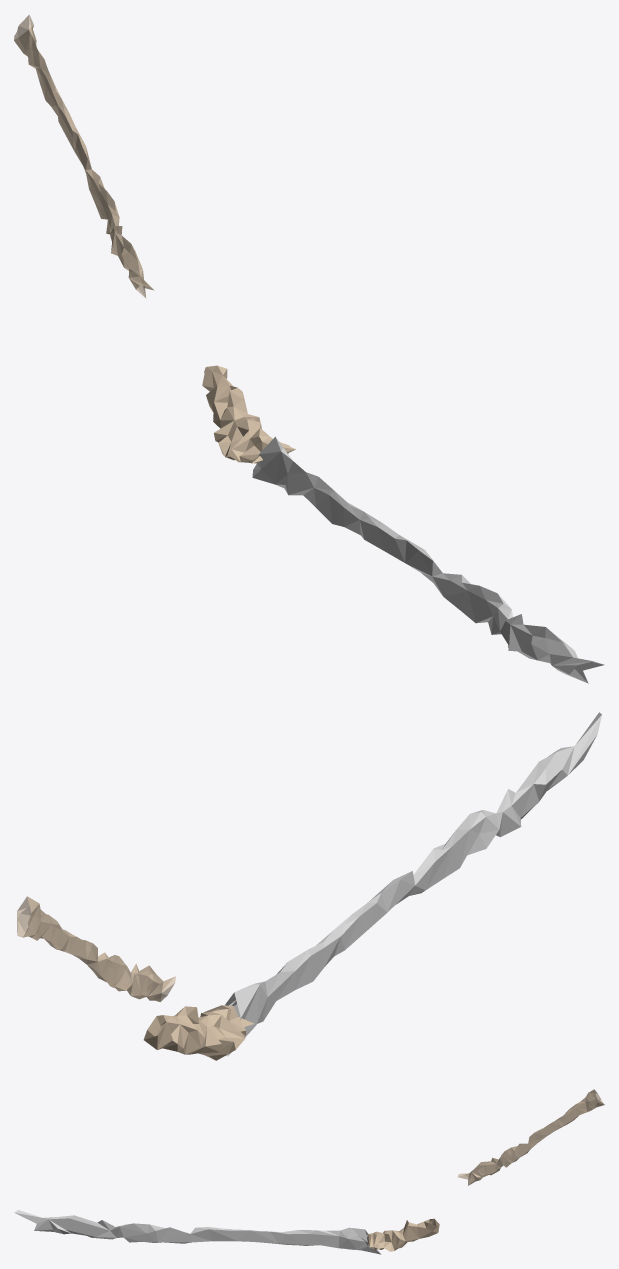
Rendered from Fixed Ventricles.fbx.
3 renders of one model, top to bottom at view 1: azimuth 30°, elevation 25°; view 2: azimuth 150°, elevation 25°; view 3: azimuth 270°, elevation 25°, orthographic. The views are drawn at different scales.
Visible parts, largest first — view 1: Central Canal, Cerebral Aqueduct, 4th Ventricle; view 2: Central Canal, Cerebral Aqueduct, 4th Ventricle; view 3: Central Canal, Cerebral Aqueduct, 4th Ventricle.
Part boxes in pixels (<box>): Central Canal: <box>252,436,604,683</box>; Cerebral Aqueduct: <box>14,14,154,298</box>; 4th Ventricle: <box>202,365,295,463</box>; Central Canal: <box>225,712,601,1056</box>; Cerebral Aqueduct: <box>17,896,175,1001</box>; 4th Ventricle: <box>143,1005,254,1060</box>; Central Canal: <box>14,1210,381,1254</box>; Cerebral Aqueduct: <box>457,1089,604,1185</box>; 4th Ventricle: <box>367,1218,439,1251</box>.
Size of the model in its own units: 1445 by 6560 by 21932.
